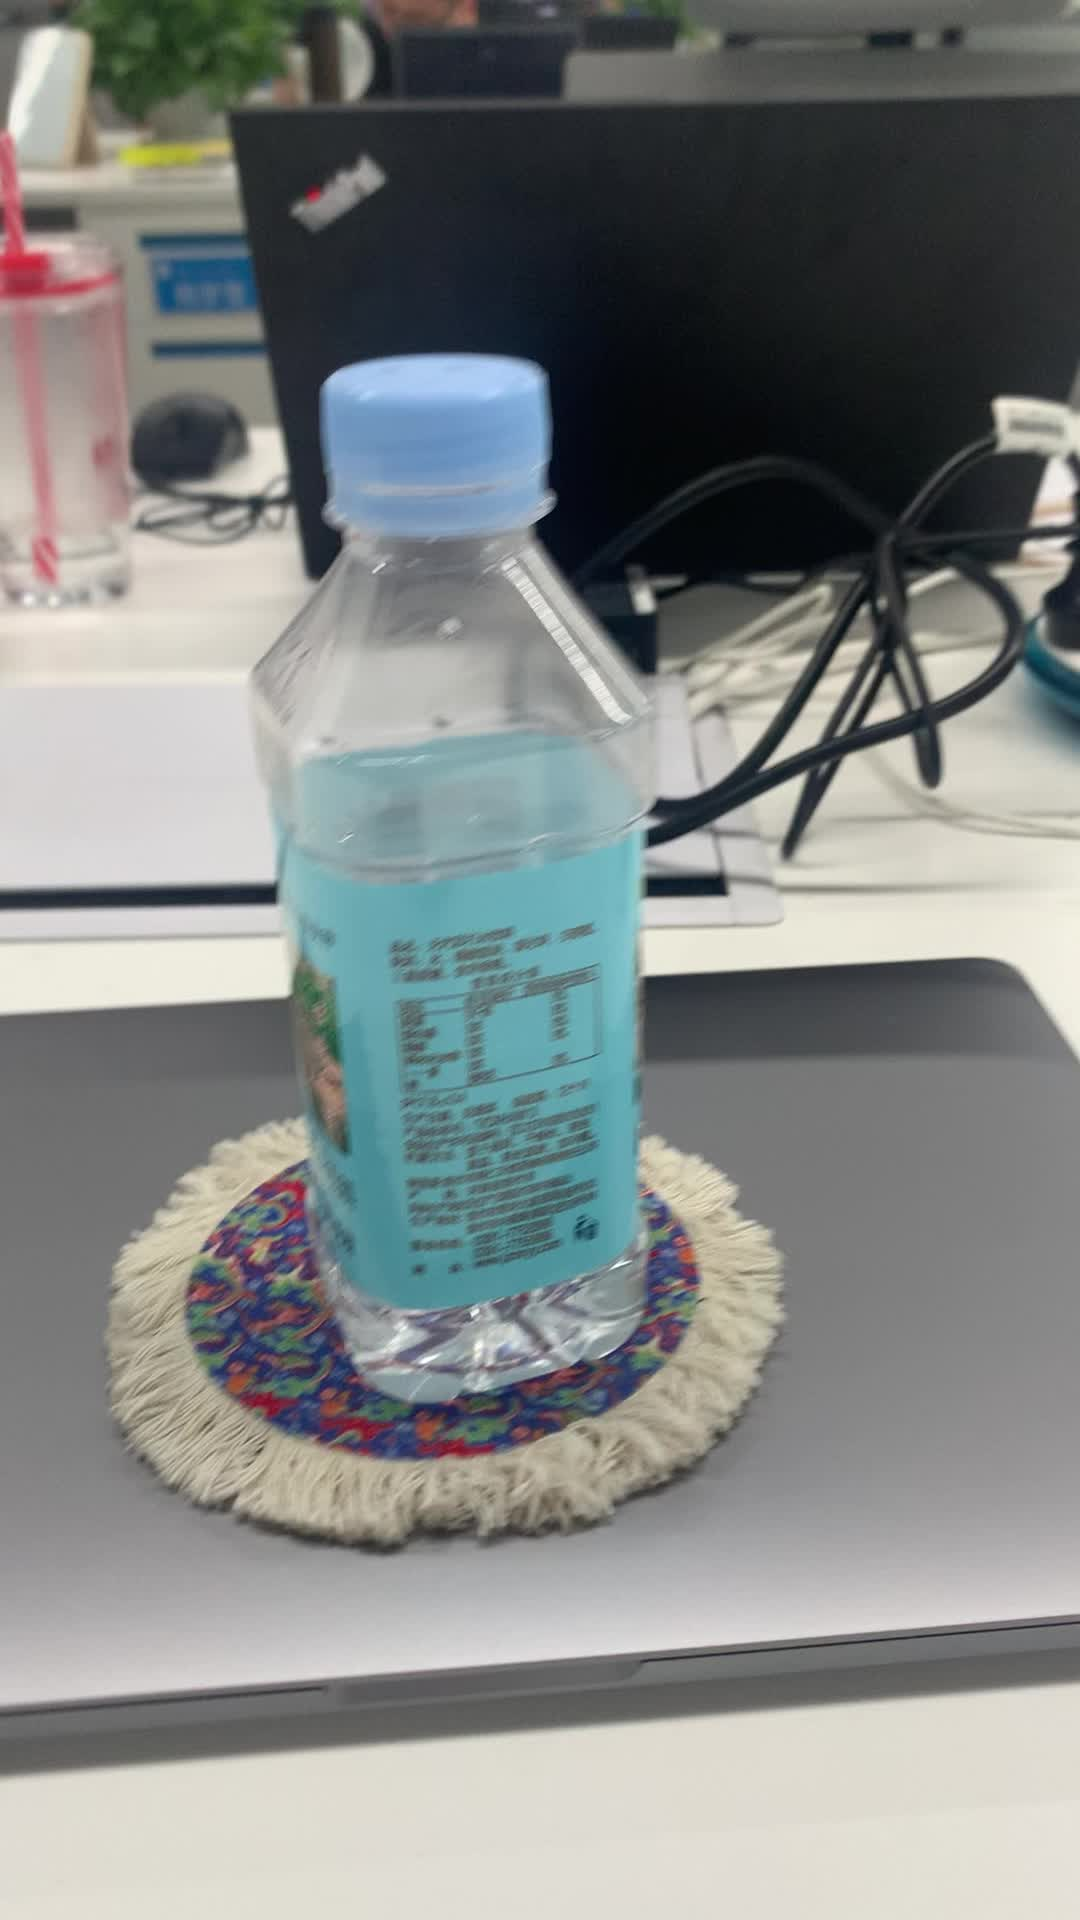水瓶: (237, 345, 674, 1402)
